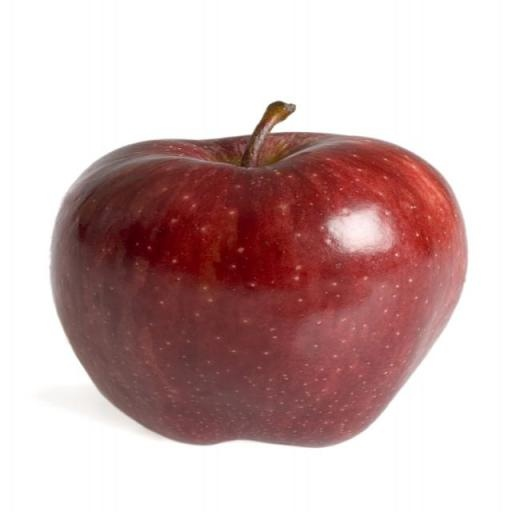fruit: (52, 103, 465, 445)
